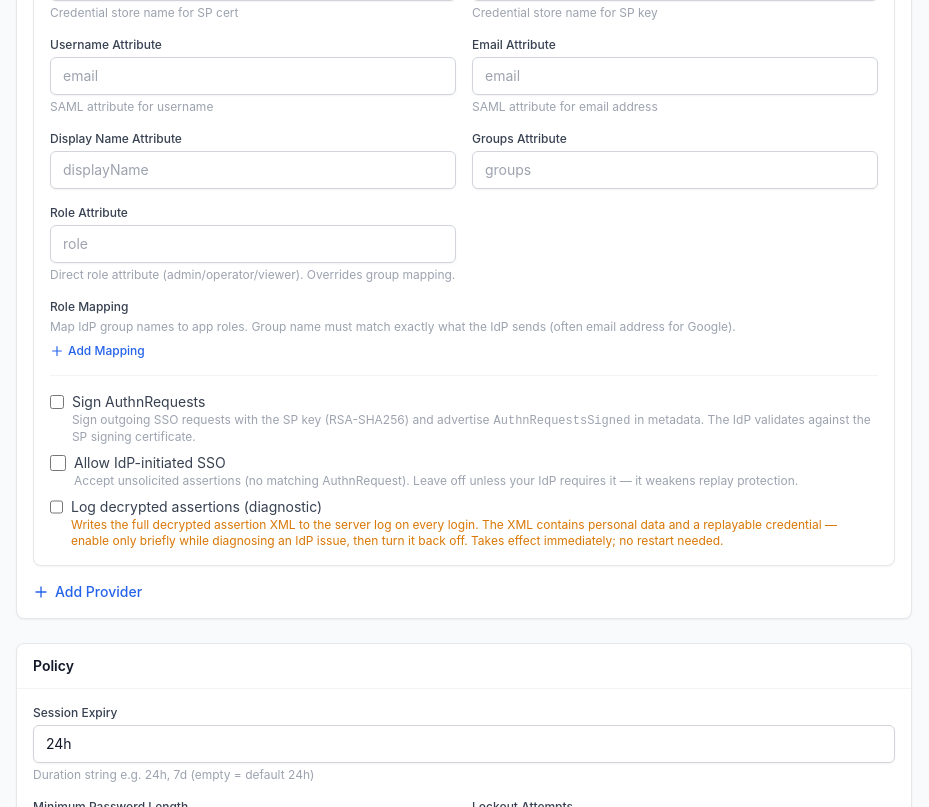
Scenario: AdminAuthPage › toggling Sign AuthnRequests enables Save
(page scrolled)
Click the checkbox labelled "Sign AuthnRequests": (57, 402) x1=50 y1=394 x2=64 y2=410
(page scrolled)
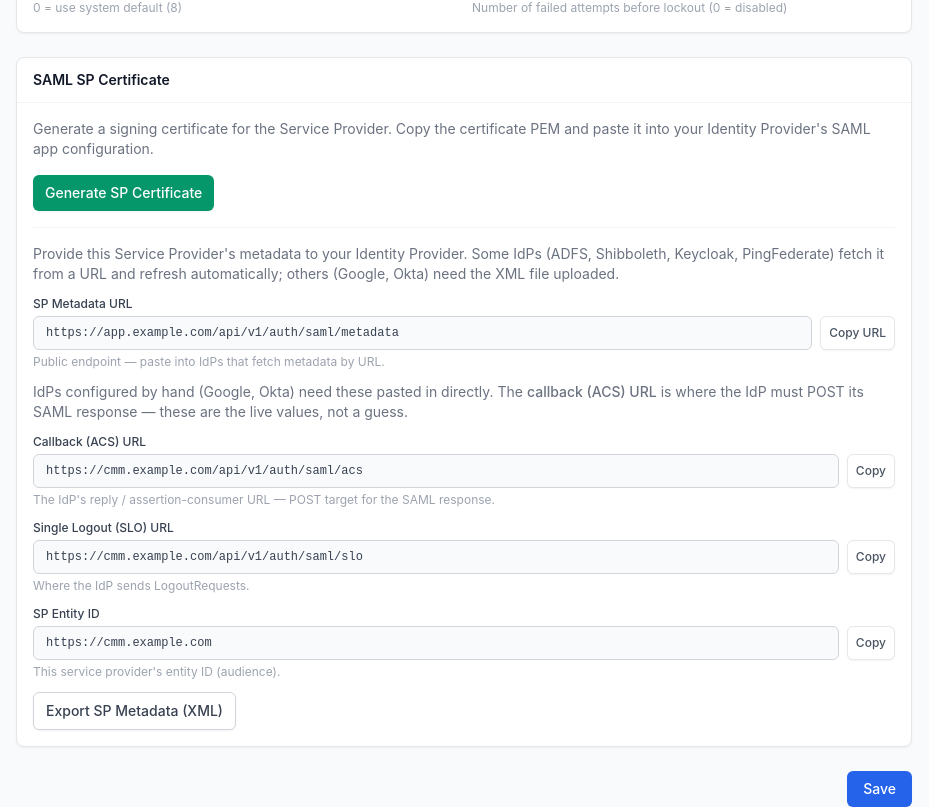
Result: the button "Save" is enabled at x1=847 y1=771 x2=912 y2=806
